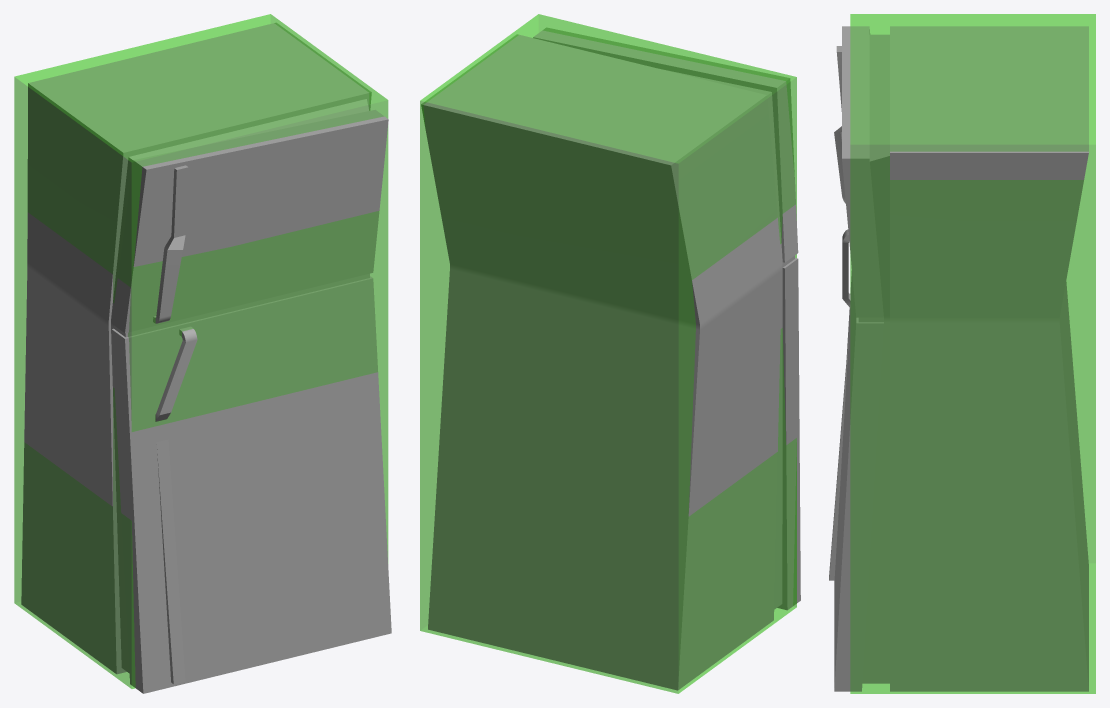
The model's file is Fridge.fbx.
3 views of the same model, side by side, from view 1: azimuth 30°, elevation 25°; view 2: azimuth 150°, elevation 25°; view 3: azimuth 270°, elevation 25° (orthographic). The views are drawn at different scales.
Visible parts, largest first — view 1: Fridge, pCube1; view 2: Fridge, pCube1; view 3: pCube1, Fridge.
Boxes of the visible parts, bbox=[...] form: Fridge: bbox=[21, 23, 391, 693]; pCube1: bbox=[14, 14, 388, 688]; Fridge: bbox=[421, 27, 800, 690]; pCube1: bbox=[420, 14, 796, 693]; pCube1: bbox=[850, 14, 1095, 693]; Fridge: bbox=[829, 26, 1088, 691].
Bounding box in the file's own units: 0.9534 × 1.82 × 0.8021.
